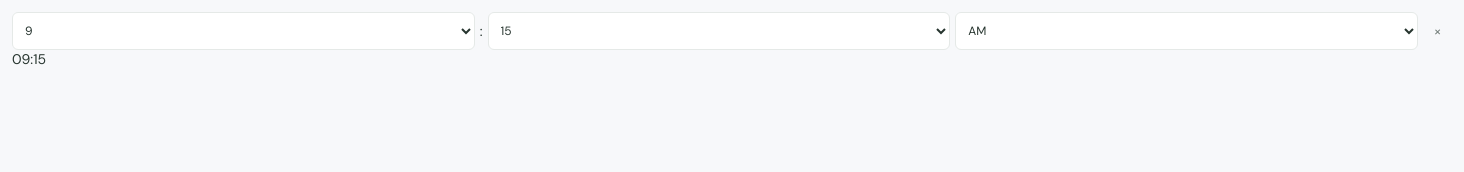
Scenario: formats midnight, noon, and afternoon and edits explicit AM/PM values
Select "PM" in the dropdown named "Start time AM or PM": point(1187, 31) [955,12,1418,50]
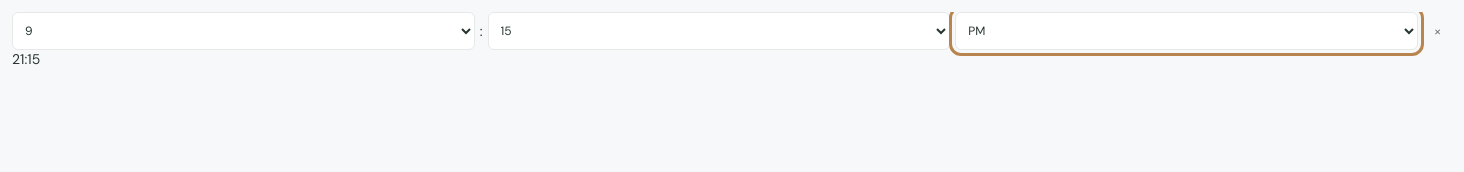
Select "12" in the dropdown named "Start time hour": point(243, 31) [12,12,475,50]
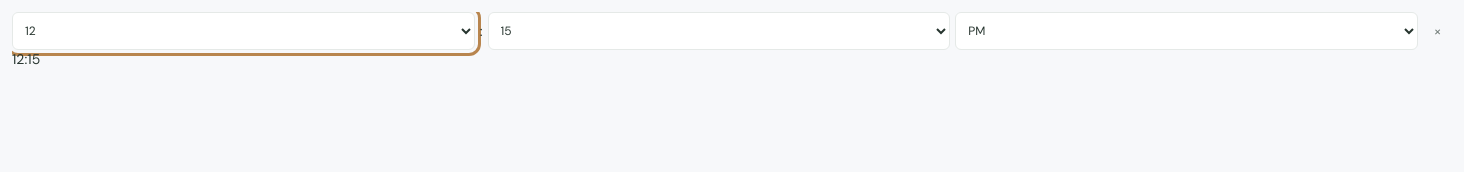
Now the text "12:15" is shown, box [12,50,40,68]
